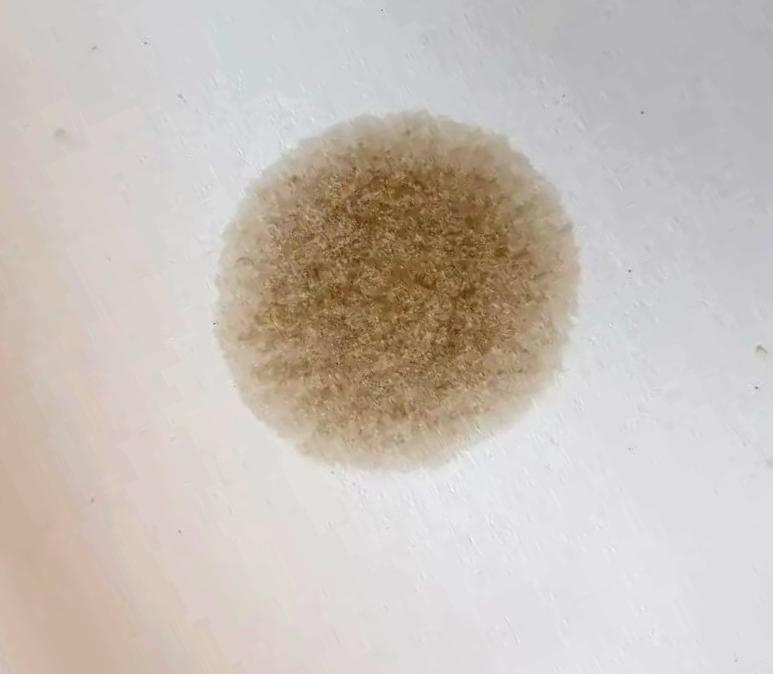stain: (215, 108, 593, 472)
